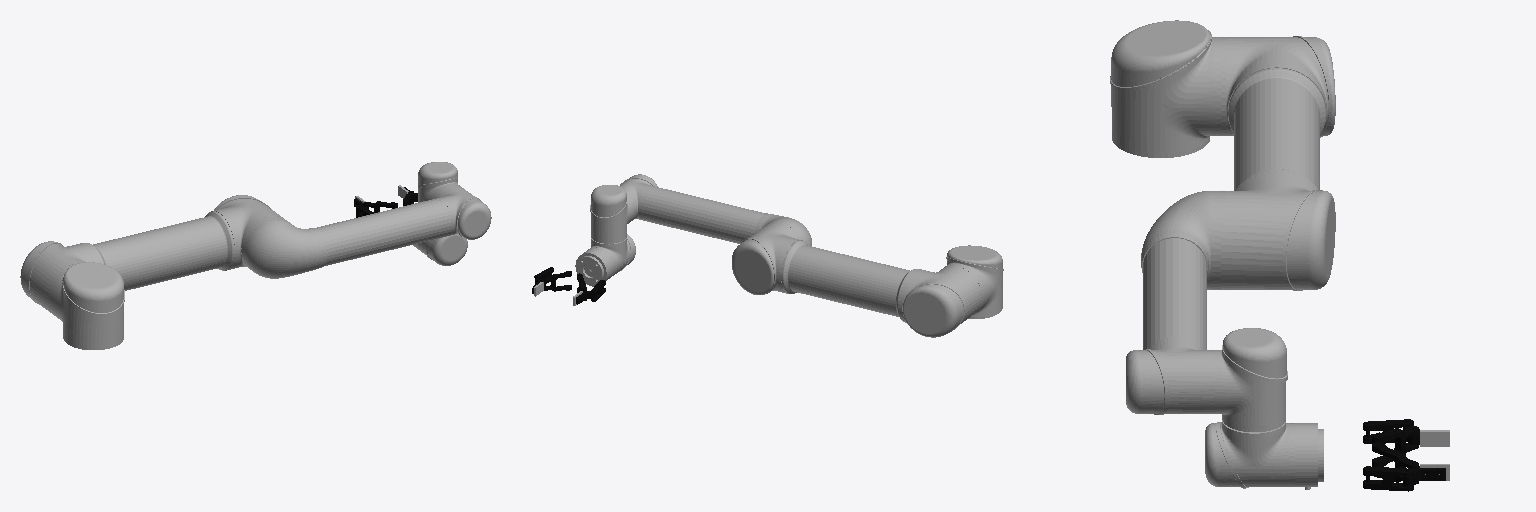
The robot description file, URDF, robot "ur5_robotiq_model":
<?xml version="1.0" ?>
<!-- =================================================================================== -->
<!-- |    This document was autogenerated by xacro from UR5_gripper2.xacro             | -->
<!-- |    EDITING THIS FILE BY HAND IS NOT RECOMMENDED                                 | -->
<!-- =================================================================================== -->
<robot name="ur5_robotiq_model" xmlns:xacro="http://ros.org/wiki/xacro">
  <!-- common stuff -->
  <!-- ur5 -->
  <!-- Inertia parameters -->
  <!-- This mass might be incorrect -->
  <!-- Kinematic model -->
  <!-- Properties from urcontrol.conf -->
  <!--
    DH for UR5:
    a = [0.00000, -0.42500, -0.39225,  0.00000,  0.00000,  0.0000]
    d = [0.089159,  0.00000,  0.00000,  0.10915,  0.09465,  0.0823]
    alpha = [ 1.570796327, 0, 0, 1.570796327, -1.570796327, 0 ]
    q_home_offset = [0, -1.570796327, 0, -1.570796327, 0, 0]
    joint_direction = [-1, -1, 1, 1, 1, 1]
    mass = [3.7000, 8.3930, 2.2750, 1.2190, 1.2190, 0.1879]
    center_of_mass = [ [0, -0.02561, 0.00193], [0.2125, 0, 0.11336], [0.11993, 0.0, 0.0265], [0, -0.0018, 0.01634], [0, 0.0018,0.01634], [0, 0, -0.001159] ]
  -->
  <!-- Arbitrary offsets for shoulder/elbow joints -->
  <!-- measured from model -->
  <!-- measured from model -->
  <!-- link lengths used in model -->
  <!--property name="shoulder_height" value="0.089159" /-->
  <!--property name="shoulder_offset" value="0.13585" /-->
  <!-- shoulder_offset - elbow_offset + wrist_1_length = 0.10915 -->
  <!--property name="upper_arm_length" value="0.42500" /-->
  <!--property name="elbow_offset" value="0.1197" /-->
  <!-- CAD measured -->
  <!--property name="forearm_length" value="0.39225" /-->
  <!--property name="wrist_1_length" value="0.093" /-->
  <!-- CAD measured -->
  <!--property name="wrist_2_length" value="0.09465" /-->
  <!-- In CAD this distance is 0.930, but in the spec it is 0.09465 -->
  <!--property name="wrist_3_length" value="0.0823" /-->
  <!-- manually measured -->
  <!-- manually measured -->
  <!-- manually measured -->
  <!-- manually measured -->
  <!-- manually measured -->
  <!-- arm -->
  <link name="base_link">
    <visual>
      <geometry>
        <mesh filename="{}/arm/meshes/visual/base.dae"/>
      </geometry>
      <material name="LightGrey">
        <color rgba="0.7 0.7 0.7 1.0"/>
      </material>
    </visual>
    <collision>
      <geometry>
        <mesh filename="{}/arm/meshes/collision/base.stl"/>
      </geometry>
    </collision>
    <inertial>
      <mass value="4.0"/>
      <origin rpy="0 0 0" xyz="0.0 0.0 0.0"/>
      <inertia ixx="0.00443333156" ixy="0.0" ixz="0.0" iyy="0.00443333156" iyz="0.0" izz="0.0072"/>
    </inertial>
  </link>


  <joint name="shoulder_pan_joint" type="revolute">
    <parent link="base_link"/>
    <child link="shoulder_link"/>
    <origin rpy="0.0 0.0 0.0" xyz="0.0 0.0 0.089159"/>
    <axis xyz="0 0 1"/>
    <limit effort="150.0" lower="-6.2831853" upper="6.2831853" velocity="3.15"/>
    <dynamics damping="0.0" friction="0.0"/>
  </joint>


  <link name="shoulder_link">
    <visual>
      <geometry>
        <mesh filename="{}/arm/meshes/visual/shoulder.dae"/>
      </geometry>
      <material name="LightGrey">
        <color rgba="0.7 0.7 0.7 1.0"/>
      </material>
    </visual>
    <collision>
      <geometry>
        <mesh filename="{}/arm/meshes/collision/shoulder.stl"/>
      </geometry>
    </collision>
    <inertial>
      <mass value="3.7"/>
      <origin rpy="0 0 0" xyz="0.0 0.0 0.0"/>
      <inertia ixx="0.010267495893" ixy="0.0" ixz="0.0" iyy="0.010267495893" iyz="0.0" izz="0.00666"/>
    </inertial>
  </link>


  <joint name="shoulder_lift_joint" type="revolute">
    <parent link="shoulder_link"/>
    <child link="upper_arm_link"/>
    <origin rpy="0.0 1.570796325 0.0" xyz="0.0 0.13585 0.0"/>
    <axis xyz="0 1 0"/>
    <limit effort="150.0" lower="-6.2831853" upper="6.2831853" velocity="3.15"/>
    <dynamics damping="0.0" friction="0.0"/>
  </joint>


  <link name="upper_arm_link">
    <visual>
      <geometry>
        <mesh filename="{}/arm/meshes/visual/upperarm.dae"/>
      </geometry>
      <material name="LightGrey">
        <color rgba="0.7 0.7 0.7 1.0"/>
      </material>
    </visual>
    <collision>
      <geometry>
        <mesh filename="{}/arm/meshes/collision/upperarm.stl"/>
      </geometry>
    </collision>
    <inertial>
      <mass value="8.393"/>
      <origin rpy="0 0 0" xyz="0.0 0.0 0.28"/>
      <inertia ixx="0.22689067591" ixy="0.0" ixz="0.0" iyy="0.22689067591" iyz="0.0" izz="0.0151074"/>
    </inertial>
  </link>


  <joint name="elbow_joint" type="revolute">
    <parent link="upper_arm_link"/>
    <child link="forearm_link"/>
    <origin rpy="0.0 0.0 0.0" xyz="0.0 -0.1197 0.425"/>
    <axis xyz="0 1 0"/>
    <limit effort="150.0" lower="-6.2831853" upper="6.2831853" velocity="3.15"/>
    <dynamics damping="0.0" friction="0.0"/>
  </joint>


  <link name="forearm_link">
    <visual>
      <geometry>
        <mesh filename="{}/arm/meshes/visual/forearm.dae"/>
      </geometry>
      <material name="LightGrey">
        <color rgba="0.7 0.7 0.7 1.0"/>
      </material>
    </visual>
    <collision>
      <geometry>
        <mesh filename="{}/arm/meshes/collision/forearm.stl"/>
      </geometry>
    </collision>
    <inertial>
      <mass value="2.275"/>
      <origin rpy="0 0 0" xyz="0.0 0.0 0.25"/>
      <inertia ixx="0.049443313556" ixy="0.0" ixz="0.0" iyy="0.049443313556" iyz="0.0" izz="0.004095"/>
    </inertial>
  </link>


  <joint name="wrist_1_joint" type="revolute">
    <parent link="forearm_link"/>
    <child link="wrist_1_link"/>
    <origin rpy="0.0 1.570796325 0.0" xyz="0.0 0.0 0.39225"/>
    <axis xyz="0 1 0"/>
    <limit effort="28.0" lower="-6.2831853" upper="6.2831853" velocity="3.2"/>
    <dynamics damping="0.0" friction="0.0"/>
  </joint>


  <link name="wrist_1_link">
    <visual>
      <geometry>
        <mesh filename="{}/arm/meshes/visual/wrist1.dae"/>
      </geometry>
      <material name="LightGrey">
        <color rgba="0.7 0.7 0.7 1.0"/>
      </material>
    </visual>
    <collision>
      <geometry>
        <mesh filename="{}/arm/meshes/collision/wrist1.stl"/>
      </geometry>
    </collision>
    <inertial>
      <mass value="1.219"/>
      <origin rpy="0 0 0" xyz="0.0 0.0 0.0"/>
      <inertia ixx="0.111172755531" ixy="0.0" ixz="0.0" iyy="0.111172755531" iyz="0.0" izz="0.21942"/>
    </inertial>
  </link>


  <joint name="wrist_2_joint" type="revolute">
    <parent link="wrist_1_link"/>
    <child link="wrist_2_link"/>
    <origin rpy="0.0 0.0 0.0" xyz="0.0 0.093 0.0"/>
    <axis xyz="0 0 1"/>
    <limit effort="28.0" lower="-6.2831853" upper="6.2831853" velocity="3.2"/>
    <dynamics damping="0.0" friction="0.0"/>
  </joint>


  <link name="wrist_2_link">
    <visual>
      <geometry>
        <mesh filename="{}/arm/meshes/visual/wrist2.dae"/>
      </geometry>
      <material name="LightGrey">
        <color rgba="0.7 0.7 0.7 1.0"/>
      </material>
    </visual>
    <collision>
      <geometry>
        <mesh filename="{}/arm/meshes/collision/wrist2.stl"/>
      </geometry>
    </collision>
    <inertial>
      <mass value="1.219"/>
      <origin rpy="0 0 0" xyz="0.0 0.0 0.0"/>
      <inertia ixx="0.111172755531" ixy="0.0" ixz="0.0" iyy="0.111172755531" iyz="0.0" izz="0.21942"/>
    </inertial>
  </link>


  <joint name="wrist_3_joint" type="revolute">
    <parent link="wrist_2_link"/>
    <child link="wrist_3_link"/>
    <origin rpy="0.0 0.0 0.0" xyz="0.0 0.0 0.09465"/>
    <axis xyz="0 1 0"/>
    <limit effort="28.0" lower="-6.2831853" upper="6.2831853" velocity="3.2"/>
    <dynamics damping="0.0" friction="0.0"/>
  </joint>


  <link name="wrist_3_link">
    <visual>
      <geometry>
        <mesh filename="{}/arm/meshes/visual/wrist3.dae"/>
      </geometry>
      <material name="LightGrey">
        <color rgba="0.7 0.7 0.7 1.0"/>
      </material>
    </visual>
    <collision>
      <geometry>
        <mesh filename="{}/arm/meshes/collision/wrist3.stl"/>
      </geometry>
    </collision>
    <inertial>
      <mass value="0.1879"/>
      <origin rpy="0 0 0" xyz="0.0 0.0 0.0"/>
      <inertia ixx="0.0171364731454" ixy="0.0" ixz="0.0" iyy="0.0171364731454" iyz="0.0" izz="0.033822"/>
    </inertial>
  </link>


  <joint name="ee_fixed_joint" type="fixed">
    <parent link="wrist_3_link"/>
    <child link="ee_link"/>
    <origin rpy="0.0 0.0 1.570796325" xyz="0.0 0.1623 0.0"/>
  </joint>


  <link name="ee_link">
    <collision>
      <geometry>
        <box size="0.01 0.01 0.01"/>
      </geometry>
      <origin rpy="0 0 0" xyz="-0.01 0 0"/>
    </collision>
  </link>


  <transmission name="shoulder_pan_trans">
    <type>transmission_interface/SimpleTransmission</type>
    <joint name="shoulder_pan_joint">
      <hardwareInterface>PositionJointInterface</hardwareInterface>
    </joint>
    <actuator name="shoulder_pan_motor">
      <mechanicalReduction>1</mechanicalReduction>
    </actuator>
  </transmission>


  <transmission name="shoulder_lift_trans">
    <type>transmission_interface/SimpleTransmission</type>
    <joint name="shoulder_lift_joint">
      <hardwareInterface>PositionJointInterface</hardwareInterface>
    </joint>
    <actuator name="shoulder_lift_motor">
      <mechanicalReduction>1</mechanicalReduction>
    </actuator>
  </transmission>


  <transmission name="elbow_trans">
    <type>transmission_interface/SimpleTransmission</type>
    <joint name="elbow_joint">
      <hardwareInterface>PositionJointInterface</hardwareInterface>
    </joint>
    <actuator name="elbow_motor">
      <mechanicalReduction>1</mechanicalReduction>
    </actuator>
  </transmission>


  <transmission name="wrist_1_trans">
    <type>transmission_interface/SimpleTransmission</type>
    <joint name="wrist_1_joint">
      <hardwareInterface>PositionJointInterface</hardwareInterface>
    </joint>
    <actuator name="wrist_1_motor">
      <mechanicalReduction>1</mechanicalReduction>
    </actuator>
  </transmission>


  <transmission name="wrist_2_trans">
    <type>transmission_interface/SimpleTransmission</type>
    <joint name="wrist_2_joint">
      <hardwareInterface>PositionJointInterface</hardwareInterface>
    </joint>
    <actuator name="wrist_2_motor">
      <mechanicalReduction>1</mechanicalReduction>
    </actuator>
  </transmission>


  <transmission name="wrist_3_trans">
    <type>transmission_interface/SimpleTransmission</type>
    <joint name="wrist_3_joint">
      <hardwareInterface>PositionJointInterface</hardwareInterface>
    </joint>
    <actuator name="wrist_3_motor">
      <mechanicalReduction>1</mechanicalReduction>
    </actuator>
  </transmission>

  <!-- nothing to do here at the moment -->
  <!-- ROS base_link to UR 'Base' Coordinates transform -->
  <link name="base"/>
  <joint name="base_link-base_fixed_joint" type="fixed">
    <!-- NOTE: this rotation is only needed as long as base_link itself is
                 not corrected wrt the real robot (ie: rotated over 180
                 degrees)
      -->
    <origin rpy="0 0 -3.14159265" xyz="0 0 0"/>
    <parent link="base_link"/>
    <child link="base"/>
  </joint>

  <!-- Frame coincident with all-zeros TCP on UR controller -->
  <link name="tool0"/>
  <joint name="wrist_3_link-tool0_fixed_joint" type="fixed">
    <origin rpy="-1.570796325 0 0" xyz="0 0.0823 0"/>
    <parent link="wrist_3_link"/>
    <child link="tool0"/>
  </joint>




  <!-- GRIPPER / End-Effector -->

  <joint name="Gripper_Adapter_Fix" type="fixed">
    <parent link="ee_link"/>
    <child link="simple_gripper_base"/>
    <origin rpy="0.0 1.57075 0.0" xyz="-0.08 0.0 0.0"/>
  </joint>

  <!-- base -->
  <link name="simple_gripper_base">
    <!-- inertial>
				<mass value="0.1"/>
				<origin xyz="0 0 0.055"  />
				<cylinder_inertia radius="0.06" length="0.11" mass="0.1"/>
			</inertial -->
    <visual>
      <geometry>
        <mesh filename="{}/gripper/meshes/visual/base.dae" scale="0.001 0.001 0.001"/>
      </geometry>
    </visual>
    <collision>
      <origin rpy="0 0 0" xyz="0 0 0.015"/>
      <geometry>
        <cylinder length="0.045" radius="0.04"/>
      </geometry>
    </collision>
    <collision>
      <origin rpy="0 0 0" xyz="0 0 0.06"/>
      <geometry>
        <box size="0.03 0.04 0.06"/>
      </geometry>
    </collision>
  </link>

  <!-- right finger -->
  <joint name="simple_gripper_right_driver_joint" type="revolute">
    <origin rpy="0 0 0" xyz="0 0.0306011 0.054904"/>
    <parent link="simple_gripper_base"/>
    <child link="simple_gripper_right_driver"/>
    <axis xyz="1 0 0"/>
    <limit effort="60" lower="0.0" upper="0.872664444444" velocity="1.91986177778"/>
  </joint>


  <link name="simple_gripper_right_driver">
    <visual>
      <geometry>
        <mesh filename="{}/gripper/meshes/visual/driver.dae" scale="0.001 0.001 0.001"/>
      </geometry>
    </visual>
    <collision>
      <origin rpy="-0.1 0 0" xyz="0 0.02 0"/>
      <geometry>
        <box size="0.02 0.04 0.02"/>
      </geometry>
    </collision>
  </link>


  <joint name="simple_gripper_right_coupler_joint" type="fixed">
    <origin rpy="0 0 0" xyz="0 0.0315 -0.0041"/>
    <parent link="simple_gripper_right_driver"/>
    <child link="simple_gripper_right_coupler"/>
  </joint>


  <link name="simple_gripper_right_coupler">
    <visual>
      <geometry>
        <mesh filename="{}/gripper/meshes/visual/coupler.dae" scale="0.001 0.001 0.001"/>
      </geometry>
    </visual>
    <collision>
      <origin rpy="-1.7 0 0" xyz="0 0.0 0.025"/>
      <geometry>
        <box size="0.03 0.065 0.02"/>
      </geometry>
    </collision>
  </link>


  <joint name="simple_gripper_right_follower_joint" type="revolute">
    <origin rpy="0 0 0" xyz="0 0.0061 0.0471"/>
    <parent link="simple_gripper_right_coupler"/>
    <child link="simple_gripper_right_follower"/>
    <axis xyz="1 0 0"/>
    <limit effort="176" lower="-2.96705911111" upper="2.96705911111" velocity="1.91986177778"/>
    <mimic joint="simple_gripper_right_driver_joint" multiplier="-1"/>
  </joint>


  <link name="simple_gripper_right_follower">
    <visual>
      <geometry>
        <mesh filename="{}/gripper/meshes/visual/follower.dae" scale="0.001 0.001 0.001"/>
      </geometry>
    </visual>
    <collision>
      <origin rpy="0 0 0" xyz="0 -0.018 0.022"/>
      <geometry>
        <box size="0.02 0.015 0.048"/>
      </geometry>
    </collision>
  </link>


  <joint name="simple_gripper_right_pad_joint" type="fixed">
    <parent link="simple_gripper_right_follower"/>
    <child link="simple_gripper_right_pad"/>
  </joint>


  <link name="simple_gripper_right_pad">
    <visual>
      <geometry>
        <mesh filename="{}/gripper/meshes/visual/pad.dae" scale="0.001 0.001 0.001"/>
      </geometry>
    </visual>
    <collision>
      <origin rpy="0 0 0" xyz="0 -0.022 0.031"/>
      <geometry>
        <box size="0.02 0.008 0.036"/>
      </geometry>
    </collision>
  </link>


  <joint name="simple_gripper_right_spring_link_joint" type="revolute">
    <origin rpy="0 0 0" xyz="0 0.012 0.0614"/>
    <parent link="simple_gripper_base"/>
    <child link="simple_gripper_right_spring_link"/>
    <axis xyz="1 0 0"/>
    <limit effort="176" lower="-2.96705911111" upper="2.96705911111" velocity="1.91986177778"/>
    <mimic joint="simple_gripper_right_driver_joint" multiplier="1"/>
  </joint>


  <link name="simple_gripper_right_spring_link">
    <visual>
      <geometry>
        <mesh filename="{}/gripper/meshes/visual/spring_link.dae" scale="0.001 0.001 0.001"/>
      </geometry>
    </visual>
    <collision>
      <origin rpy="-0.7068 0 0" xyz="0 0.018 0.018"/>
      <geometry>
        <box size="0.04 0.02 0.065"/>
      </geometry>
    </collision>
  </link>


  <!-- left finger -->
  <joint name="simple_gripper_left_driver_joint" type="revolute">
    <origin rpy="0 0 3.141592653589793" xyz="0 -0.0306011 0.054904"/>
    <parent link="simple_gripper_base"/>
    <child link="simple_gripper_left_driver"/>
    <axis xyz="1 0 0"/>
    <limit effort="176" lower="0.0" upper="0.715584844444" velocity="1.91986177778"/>
    <mimic joint="simple_gripper_right_driver_joint" multiplier="1"/>
  </joint>


  <link name="simple_gripper_left_driver">
    <visual>
      <geometry>
        <mesh filename="{}/gripper/meshes/visual/driver.dae" scale="0.001 0.001 0.001"/>
      </geometry>
    </visual>
    <collision>
      <origin rpy="-0.1 0 0" xyz="0 0.02 0"/>
      <geometry>
        <box size="0.02 0.04 0.02"/>
      </geometry>
    </collision>
  </link>


  <joint name="simple_gripper_left_coupler_joint" type="fixed">
    <origin rpy="0 0 0" xyz="0 0.0315 -0.0041"/>
    <parent link="simple_gripper_left_driver"/>
    <child link="simple_gripper_left_coupler"/>
  </joint>


  <link name="simple_gripper_left_coupler">
    <visual>
      <geometry>
        <mesh filename="{}/gripper/meshes/visual/coupler.dae" scale="0.001 0.001 0.001"/>
      </geometry>
    </visual>
    <collision>
      <origin rpy="-1.7 0 0" xyz="0 0.0 0.025"/>
      <geometry>
        <box size="0.03 0.065 0.02"/>
      </geometry>
    </collision>
  </link>


  <joint name="simple_gripper_left_follower_joint" type="revolute">
    <origin rpy="0 0 0" xyz="0 0.0061 0.0471"/>
    <parent link="simple_gripper_left_coupler"/>
    <child link="simple_gripper_left_follower"/>
    <axis xyz="1 0 0"/>
    <limit effort="176" lower="-2.96705911111" upper="2.96705911111" velocity="1.91986177778"/>
    <mimic joint="simple_gripper_right_driver_joint" multiplier="-1"/>
  </joint>


  <link name="simple_gripper_left_follower">
    <visual>
      <geometry>
        <mesh filename="{}/gripper/meshes/visual/follower.dae" scale="0.001 0.001 0.001"/>
      </geometry>
    </visual>
    <collision>
      <origin rpy="0 0 0" xyz="0 -0.018 0.022"/>
      <geometry>
        <box size="0.02 0.015 0.048"/>
      </geometry>
    </collision>
  </link>


  <joint name="simple_gripper_left_pad_joint" type="fixed">
    <parent link="simple_gripper_left_follower"/>
    <child link="simple_gripper_left_pad"/>
  </joint>


  <link name="simple_gripper_left_pad">
    <visual>
      <geometry>
        <mesh filename="{}/gripper/meshes/visual/pad.dae" scale="0.001 0.001 0.001"/>
      </geometry>
    </visual>
    <collision>
      <origin rpy="0 0 0" xyz="0 -0.022 0.031"/>
      <geometry>
        <box size="0.02 0.008 0.036"/>
      </geometry>
    </collision>
  </link>


  <joint name="simple_gripper_left_spring_link_joint" type="revolute">
    <origin rpy="0 0 3.141592653589793" xyz="0 -0.012 0.0614"/>
    <parent link="simple_gripper_base"/>
    <child link="simple_gripper_left_spring_link"/>
    <axis xyz="1 0 0"/>
    <limit effort="176" lower="-2.96705911111" upper="2.96705911111" velocity="1.91986177778"/>
    <mimic joint="simple_gripper_right_driver_joint" multiplier="1"/>
  </joint>


  <link name="simple_gripper_left_spring_link">
    <visual>
      <geometry>
        <mesh filename="{}/gripper/meshes/visual/spring_link.dae" scale="0.001 0.001 0.001"/>
      </geometry>
    </visual>
    <collision>
      <origin rpy="-0.7068 0 0" xyz="0 0.018 0.018"/>
      <geometry>
        <box size="0.04 0.02 0.065"/>
      </geometry>
    </collision>
  </link>

  <transmission name="simple_gripper_right_driver_trans">
    <type>transmission_interface/SimpleTransmission</type>
    <joint name="simple_gripper_right_driver_joint">
      <hardwareInterface>PositionJointInterface</hardwareInterface>
    </joint>
    <actuator name="simple_gripper_right_driver_motor">
      <mechanicalReduction>1</mechanicalReduction>
    </actuator>
  </transmission>
</robot>

--- What the picture shows (computed from the rendered views, not written in the file) ---
Views: 3 orthographic renders of the robot side by side, from view 1: azimuth 30°, elevation 25°; view 2: azimuth 150°, elevation 25°; view 3: azimuth 270°, elevation 25°.
Robot: ur5_robotiq_model — 21 links, 20 joints (12 revolute, 8 fixed); root link base_link; default pose: every joint at zero.
Links seen in each view (by area): view 1: upper_arm_link, forearm_link, shoulder_link, wrist_1_link, wrist_2_link; view 2: upper_arm_link, forearm_link, shoulder_link, wrist_1_link, wrist_3_link, wrist_2_link; view 3: upper_arm_link, forearm_link, shoulder_link, wrist_1_link, wrist_2_link, wrist_3_link, simple_gripper_right_coupler, simple_gripper_left_spring_link, simple_gripper_left_coupler, simple_gripper_right_spring_link, simple_gripper_right_follower.
Link boxes in pixels (x1,y1,x2,y2): upper_arm_link: (20, 195, 283, 315); forearm_link: (243, 185, 491, 278); shoulder_link: (49, 262, 124, 349); wrist_1_link: (418, 162, 459, 202); wrist_2_link: (413, 234, 467, 265); upper_arm_link: (732, 223, 981, 337); forearm_link: (620, 174, 811, 245); shoulder_link: (944, 245, 1003, 318); wrist_1_link: (590, 185, 634, 243); wrist_3_link: (575, 248, 612, 286); wrist_2_link: (588, 234, 635, 278); upper_arm_link: (1221, 36, 1335, 290); forearm_link: (1126, 191, 1220, 414); shoulder_link: (1110, 20, 1220, 157); wrist_1_link: (1215, 328, 1287, 431); wrist_2_link: (1205, 420, 1294, 488); wrist_3_link: (1295, 423, 1323, 489); simple_gripper_right_coupler: (1363, 466, 1413, 491); simple_gripper_left_spring_link: (1372, 426, 1418, 466); simple_gripper_left_coupler: (1363, 419, 1413, 443); simple_gripper_right_spring_link: (1372, 442, 1418, 484); simple_gripper_right_follower: (1403, 466, 1445, 487).
Bounding box of the posed robot: 0.951 × 0.3974 × 0.2062 m (x, y, z).
Meshes: 13 distinct files referenced, 14 mesh visuals loaded (10 Collada DAE); not drawn: 4 (reference not matched to a file when rendering).
